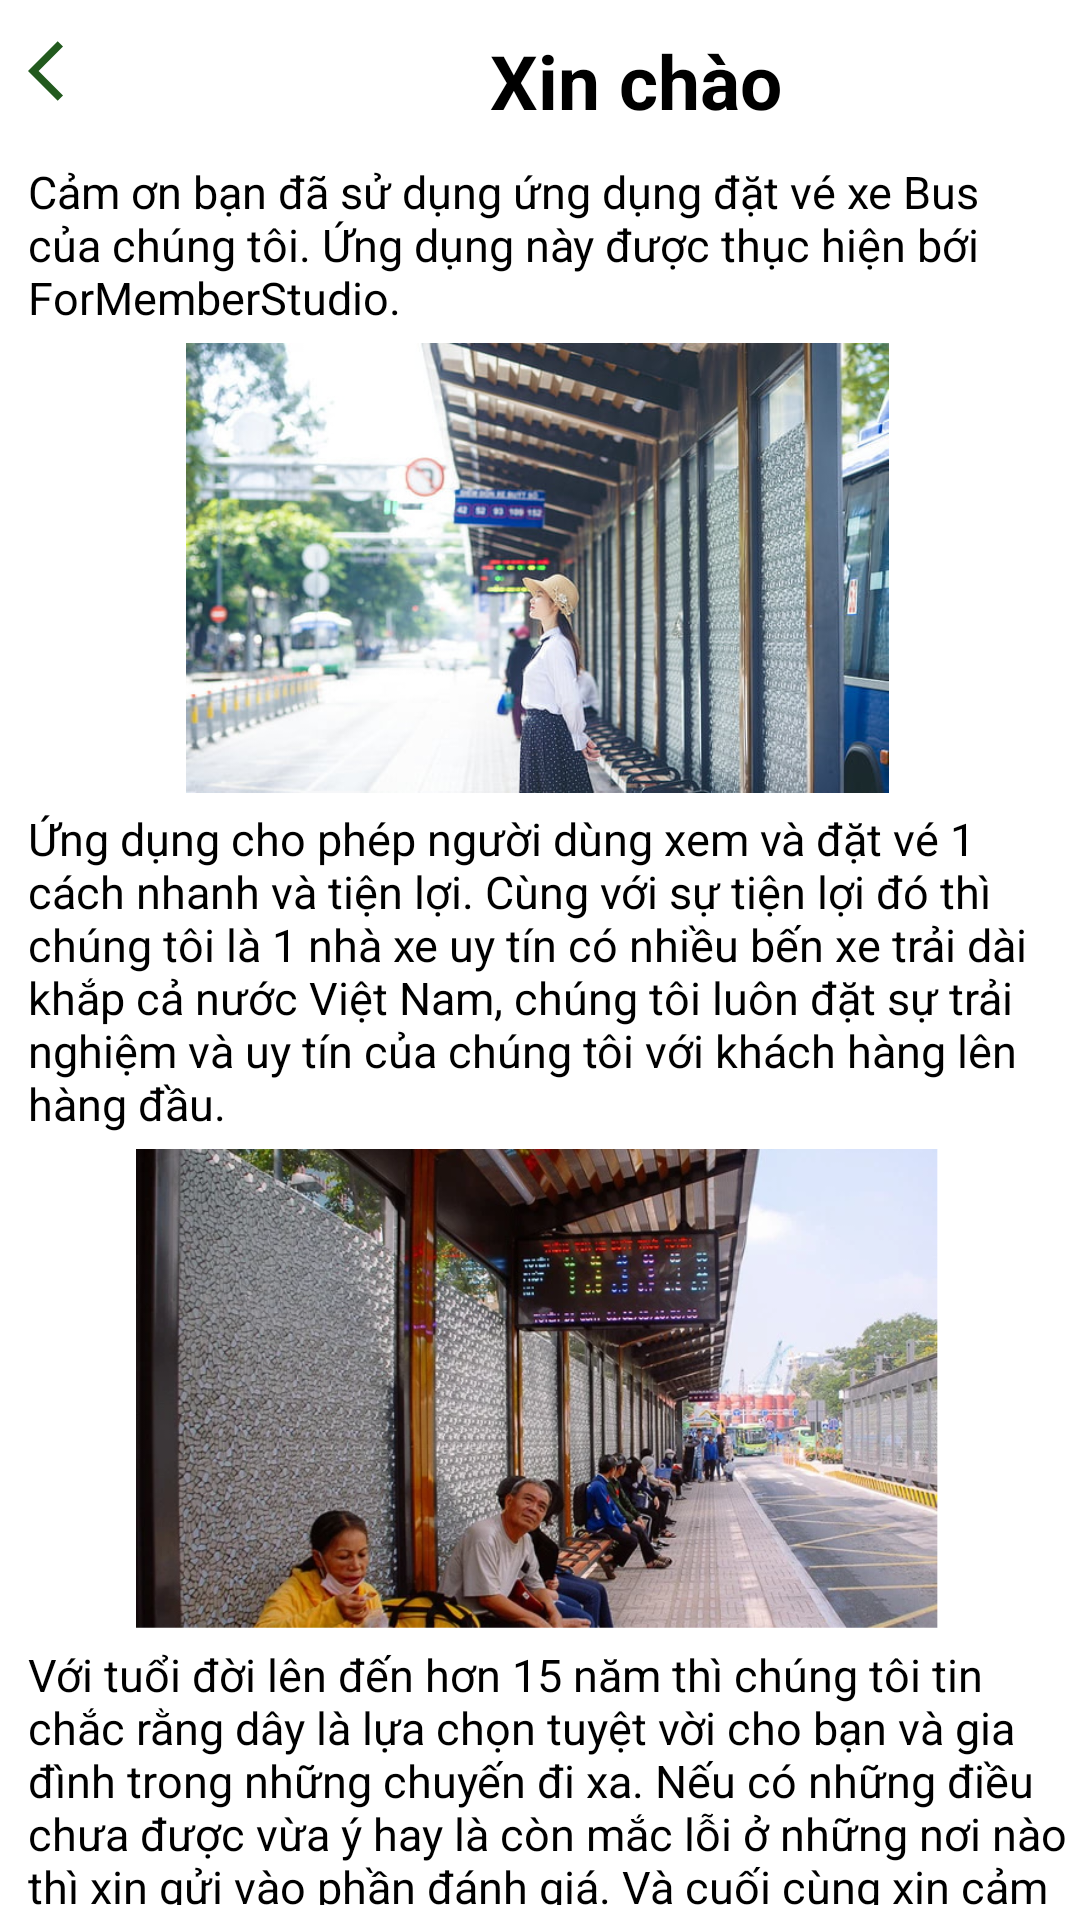

Screen size 1080px x 1920px. Icon name, then its center in pixels as (x=x, y=y):
back: (x=45, y=71)
